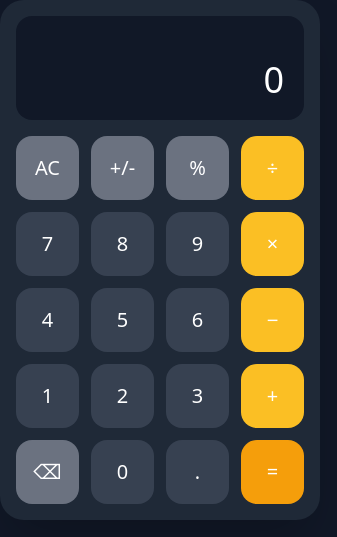
Test: Calculator – division › shows Error on division by zero
Step 1. Click the button "5" → {"x": 122, "y": 320}, box [91,288,154,352]
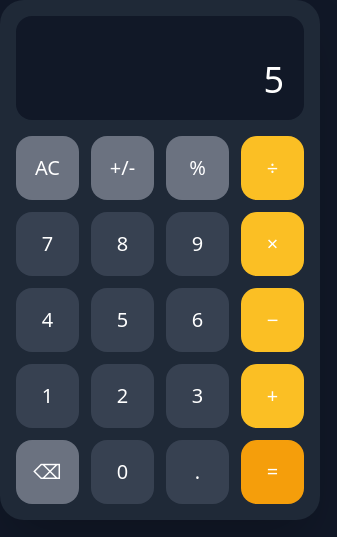
Step 2. Click the button "÷" → {"x": 272, "y": 168}, box [241,136,304,200]
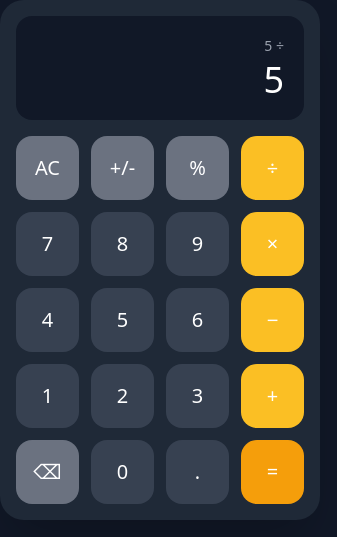
Step 3. Click the button "0" → {"x": 122, "y": 472}, box [91,440,154,504]
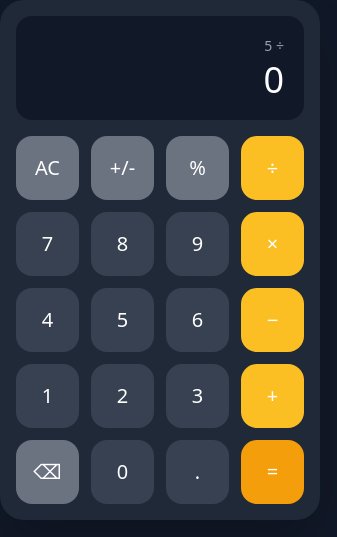
Step 4. Click the button "=" → {"x": 272, "y": 472}, box [241,440,304,504]
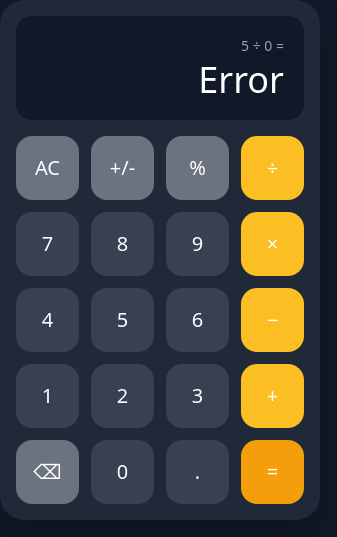
Check: the text "Error" is shown, box [198,55,284,104]
